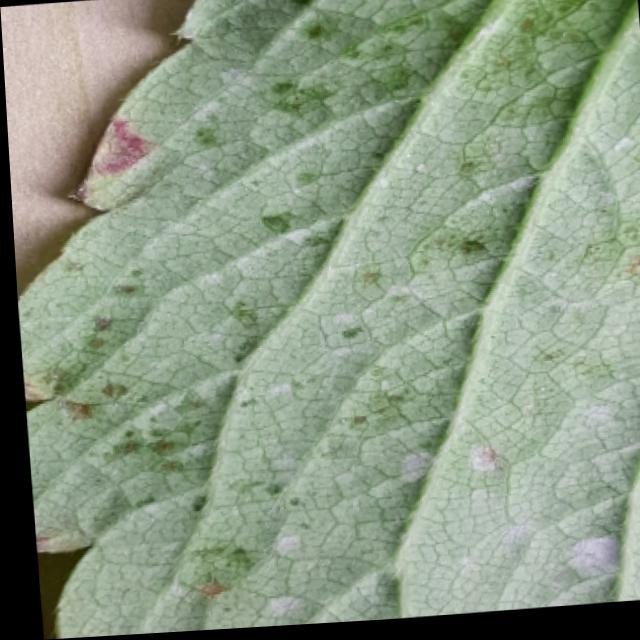Angular Leafspot: (14, 0, 640, 638)
